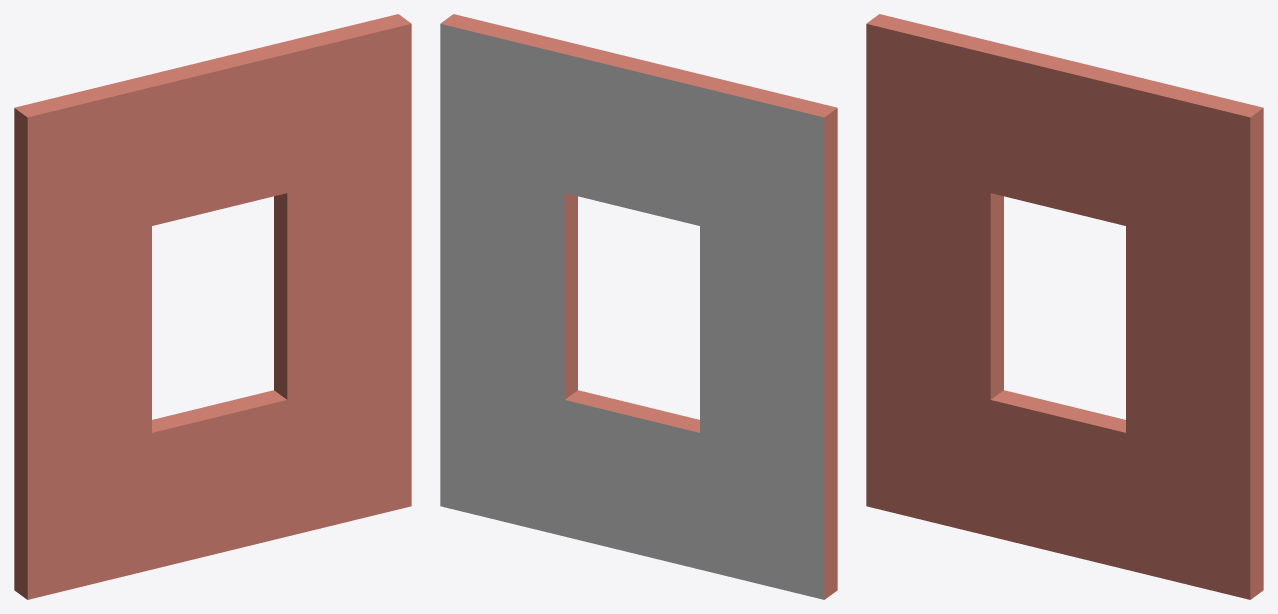
File: Wall1_C6_03.fbx
3 renders of one model, left to right at view 1: azimuth 30°, elevation 25°; view 2: azimuth 150°, elevation 25°; view 3: azimuth 330°, elevation 25°, orthographic.
Parts seen in each view (by area): view 1: Wall1_C6_03; view 2: Wall1_C6_03; view 3: Wall1_C6_03.
Boxes of the visible parts, box(x1,y1,x2,y2) form: Wall1_C6_03: box(14, 14, 411, 599); Wall1_C6_03: box(440, 14, 837, 599); Wall1_C6_03: box(866, 14, 1263, 599).
Bounding box in the file's own units: 250 × 300 × 15.
